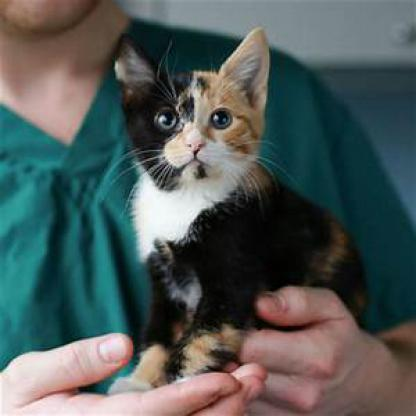cat: (119, 47, 352, 375)
